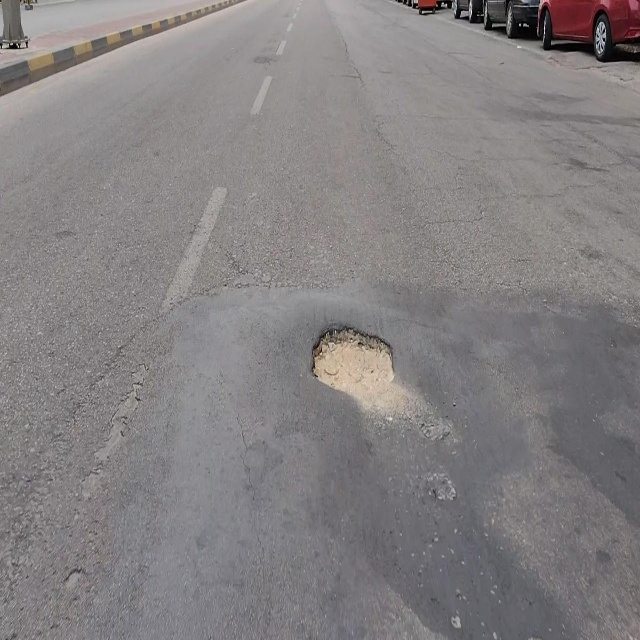pothole: (309, 319, 398, 404)
